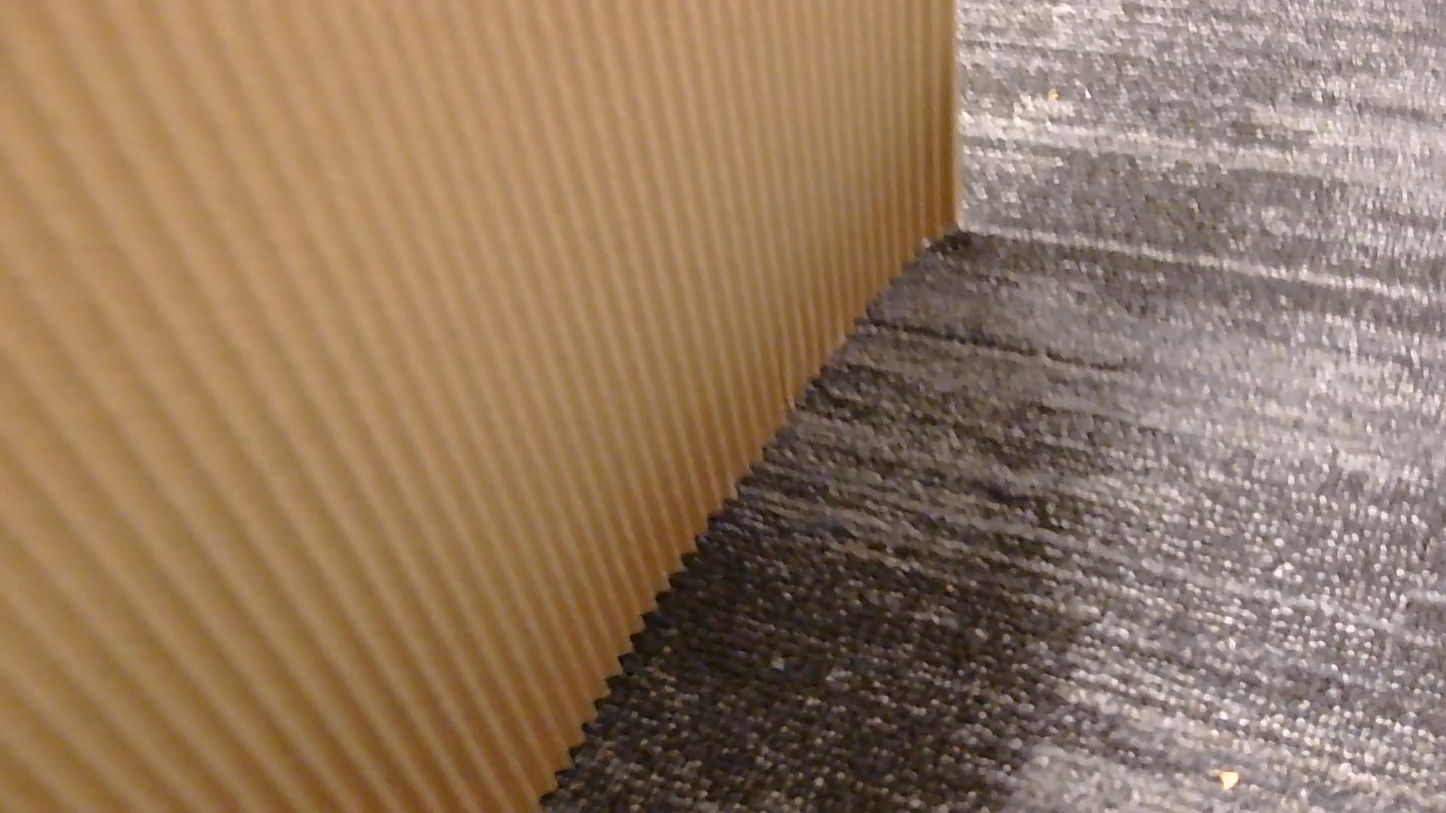Ramp: (0, 0, 958, 812)
